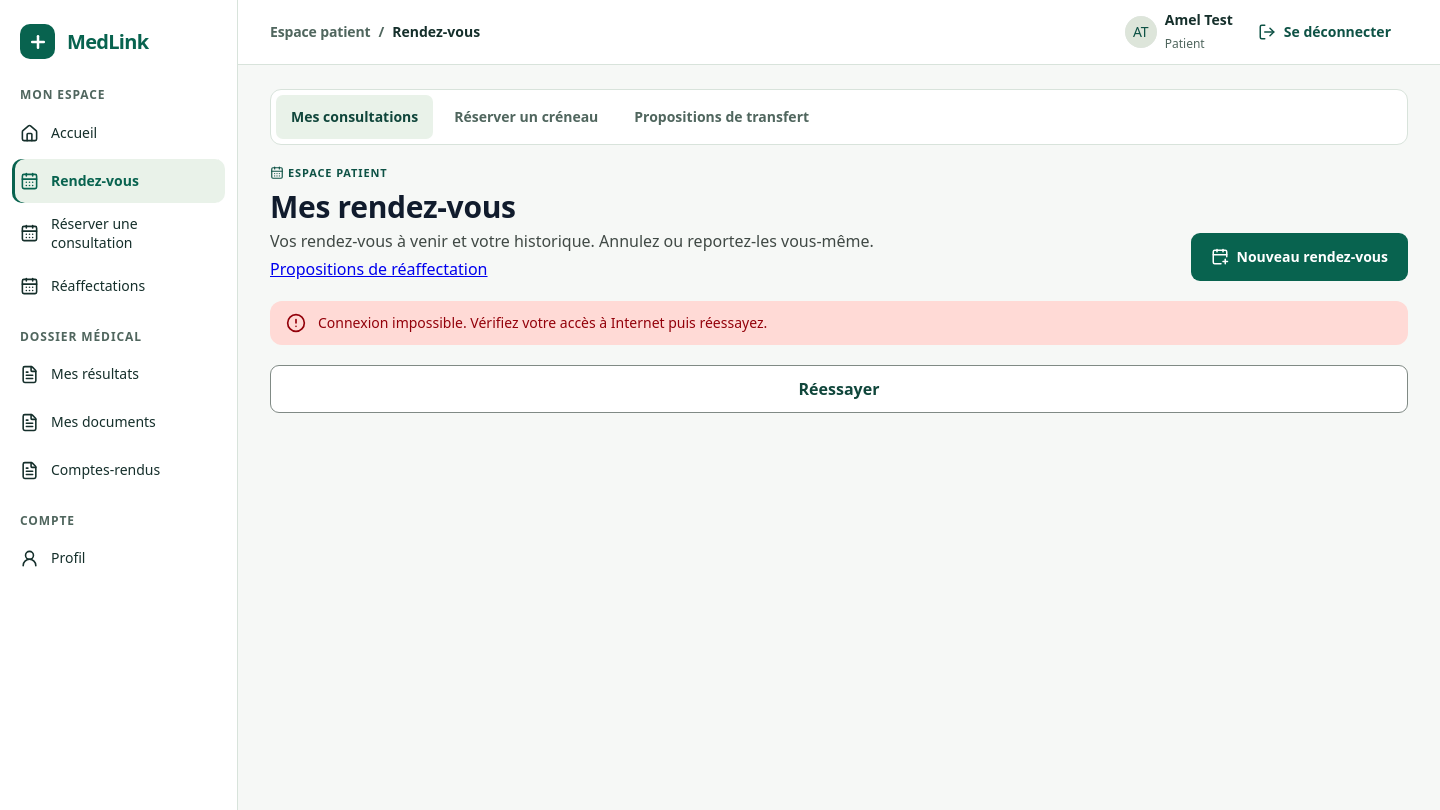
patient booking is an independent route reachable from the menu and appointment section
The image size is (1440, 810).
Later steps or results of the test are not shown.
Step 1. Click the link "Réserver une consultation" → {"x": 79, "y": 233}, box [20,214,138,252]
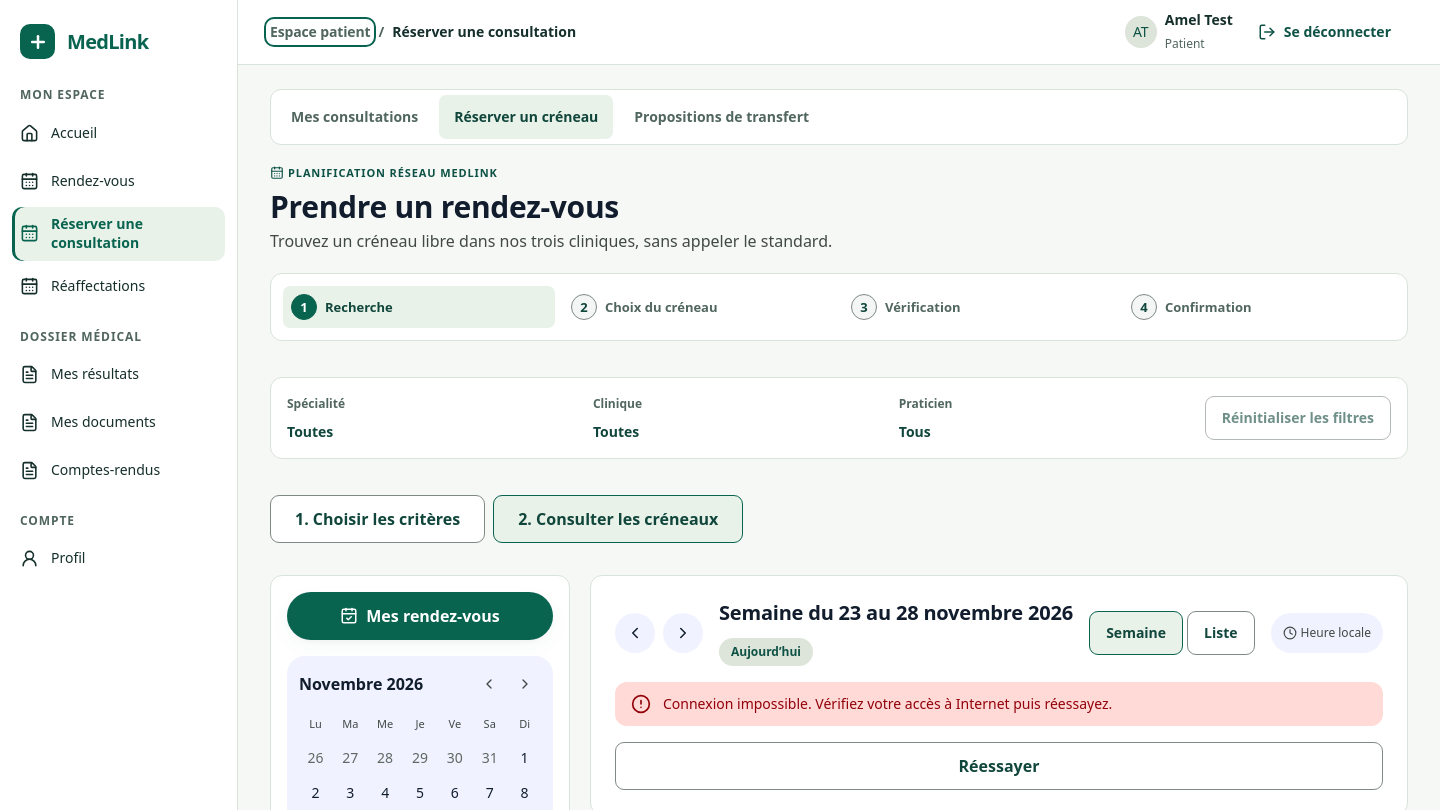
Expected: the heading "Prendre un rendez-vous" is shown, [270,186,619,227]
